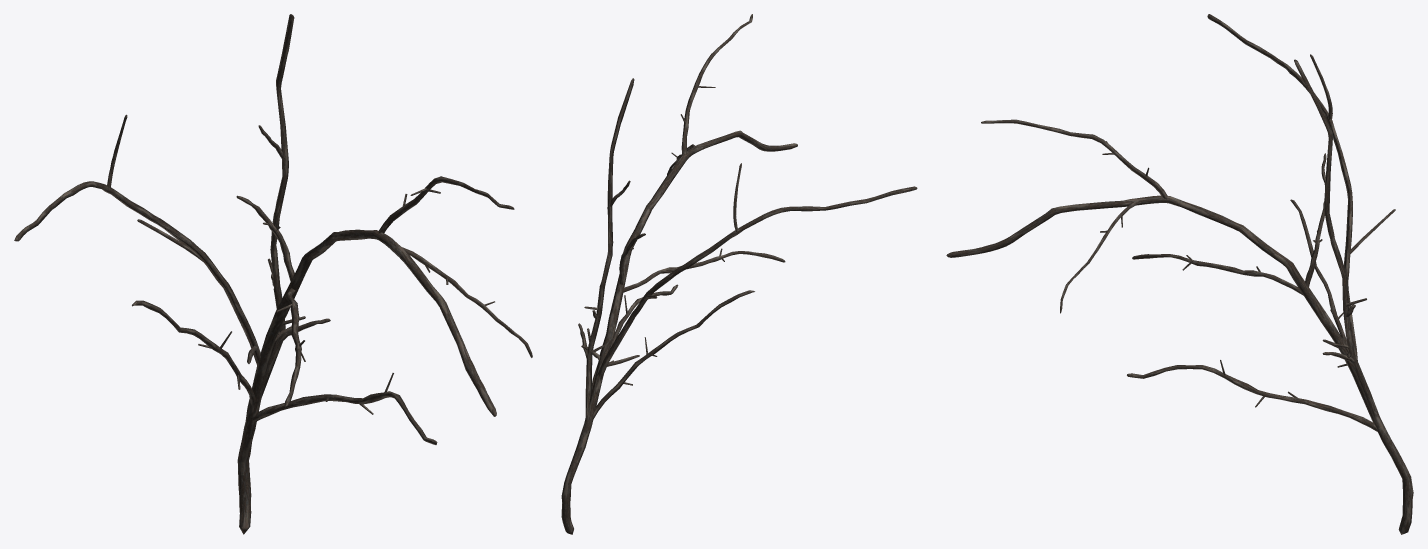
File: Branch_deadwood4_LOD1.fbx
3 renders of one model, left to right at view 1: azimuth 30°, elevation 25°; view 2: azimuth 150°, elevation 25°; view 3: azimuth 270°, elevation 25°, orthographic. The views are drawn at different scales.
Parts seen in each view (by area): view 1: polySurface14; view 2: polySurface14; view 3: polySurface14.
Boxes of the visible parts, x1,y1,x2,y2 form: polySurface14: [14, 14, 532, 534]; polySurface14: [561, 14, 917, 534]; polySurface14: [946, 14, 1413, 534].
Size of the model in its own units: 174 by 222 by 201.
